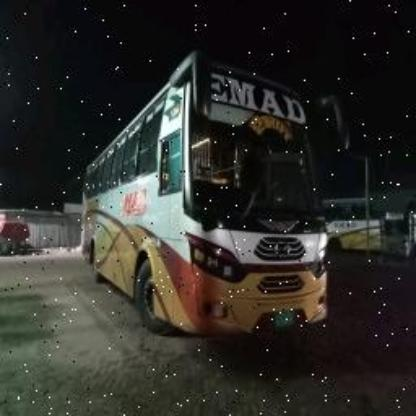bus: (78, 44, 334, 346), (326, 186, 412, 264)
